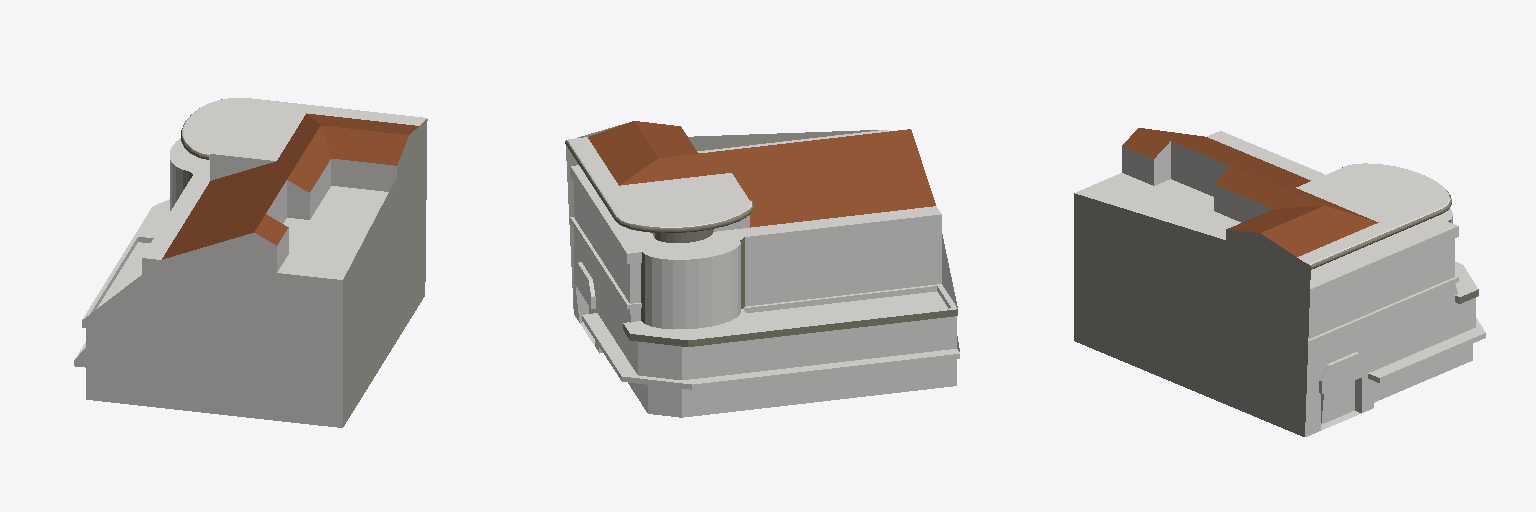
File: RexHotel2.obj
3 renders of one model, left to right at view 1: azimuth 30°, elevation 25°; view 2: azimuth 150°, elevation 25°; view 3: azimuth 270°, elevation 25°, orthographic.
Visible parts, largest first — view 1: Mesh1 Rexhotel2_1 Model; view 2: Mesh1 Rexhotel2_1 Model; view 3: Mesh1 Rexhotel2_1 Model.
Part boxes in pixels (left/top/right/bottom): Mesh1 Rexhotel2_1 Model: left=74, top=98, right=427, bottom=427; Mesh1 Rexhotel2_1 Model: left=565, top=121, right=959, bottom=417; Mesh1 Rexhotel2_1 Model: left=1074, top=128, right=1485, bottom=436.
Bounding box in the file's own units: 72.09 × 34.19 × 68.63.